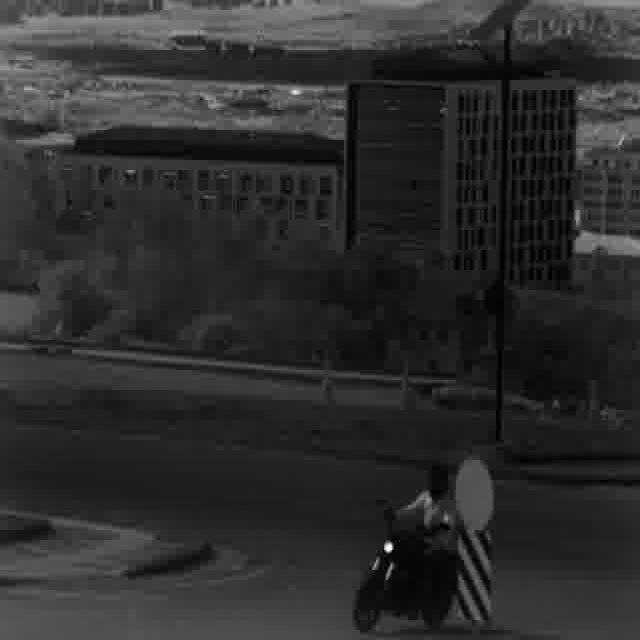Motorcycle: (354, 463, 456, 634)
